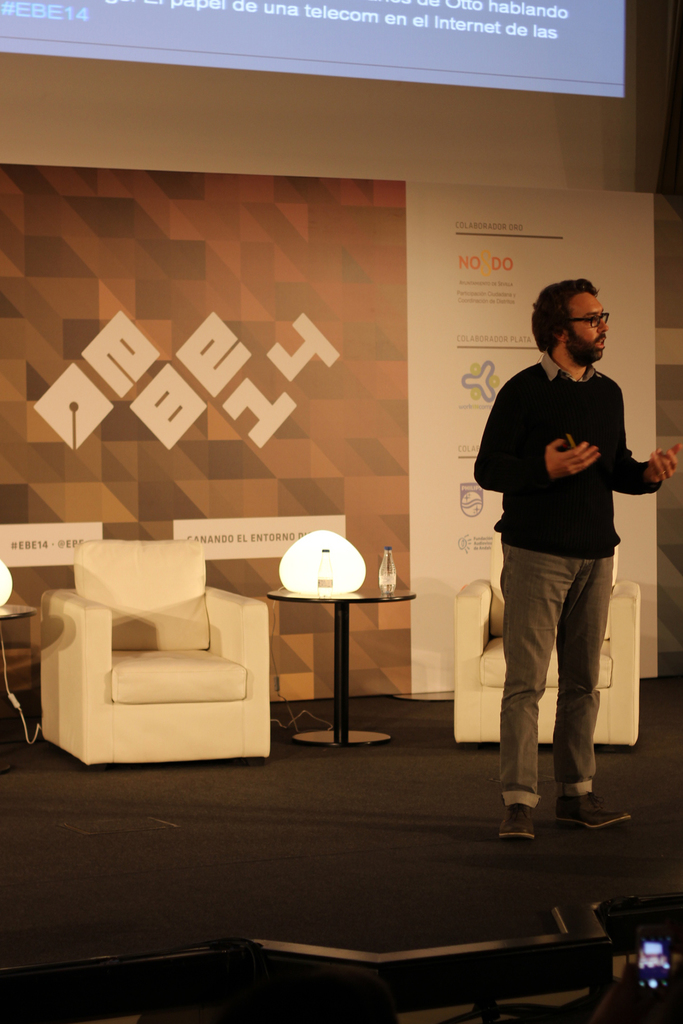Couch: (30, 554, 288, 794)
